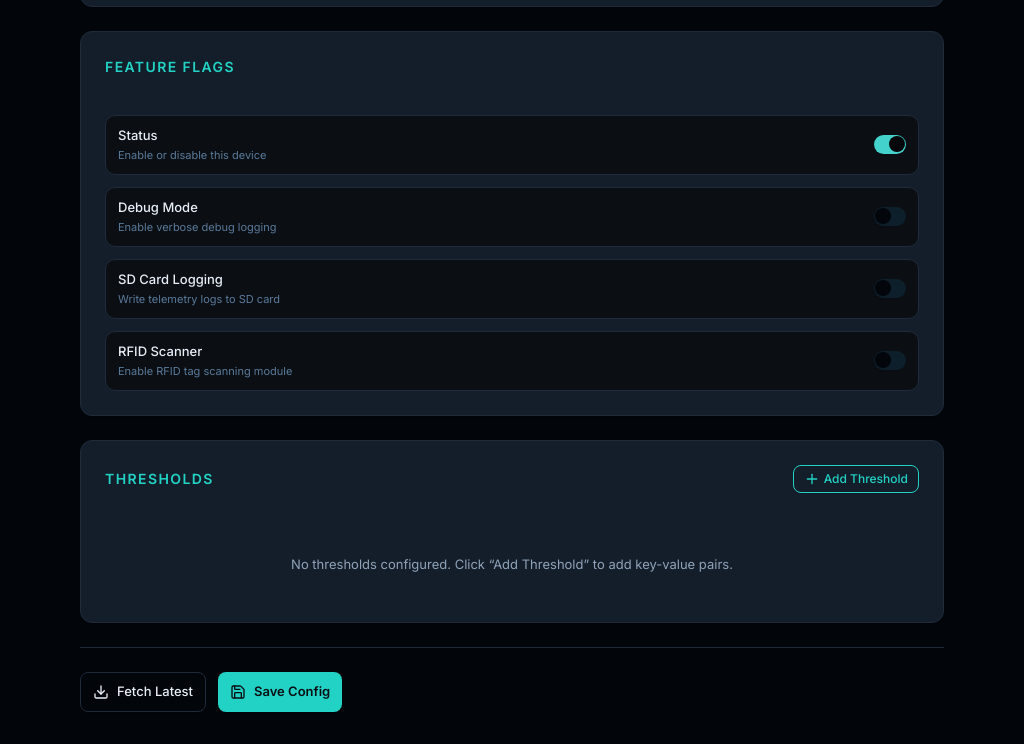
Test: DeviceConfigPage › shows 404 message when no config found
The width and height of the screenshot is (1024, 744).
(page scrolled)
What coordinates should you click on to do the following:
click the button "Fetch Latest"
I would click on:
 (143, 692)
Its box is [80,672,206,712].
(page scrolled)
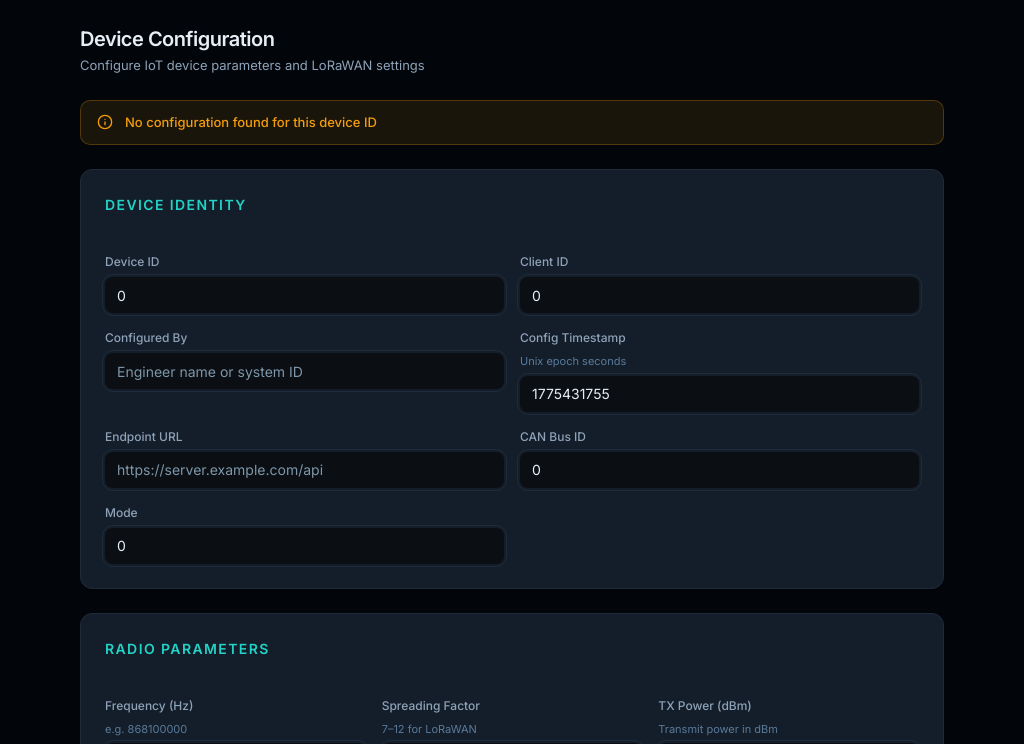
Expected: the text "No configuration found for this device ID" is shown, [125,112,377,132]
